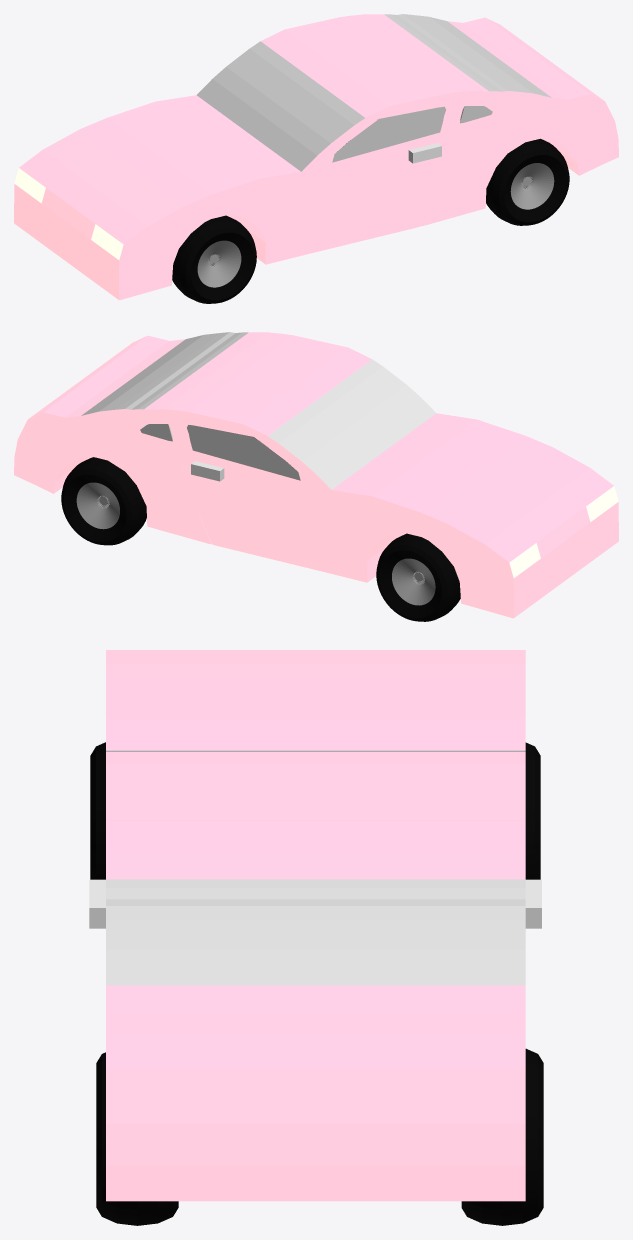
Rendered from sedan.glb.
The picture shows the model from 3 angles, top to bottom: view 1: azimuth 30°, elevation 25°; view 2: azimuth 150°, elevation 25°; view 3: azimuth 270°, elevation 25°; orthographic projection. The views are drawn at different scales.
Bounding box in the file's own units: 5.61 × 1.68 × 2.21.
